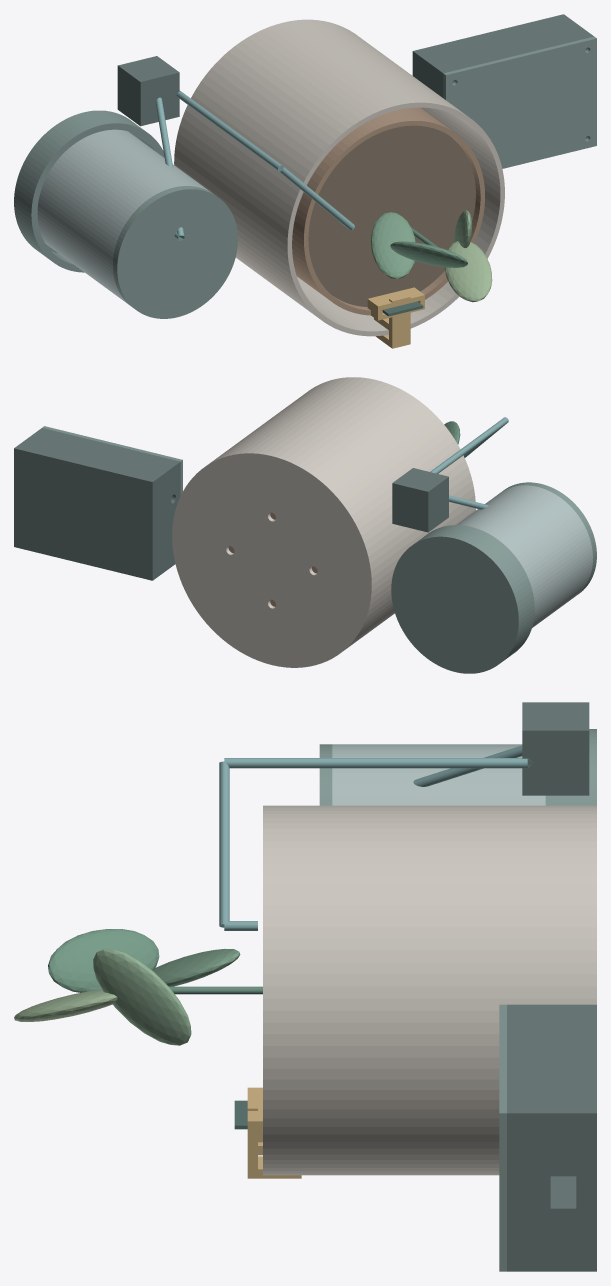
The model's file is assembly-concept.glb.
3 views of the same model, one above another, from view 1: azimuth 30°, elevation 25°; view 2: azimuth 150°, elevation 25°; view 3: azimuth 270°, elevation 25° (orthographic). The views are drawn at different scales.
Parts seen in each view (by area): view 1: sleeve-0, soil-5, electronics-lid-2, bought-tank-reference-8, tank-cap-reference-9, bought-liner-4, reservoir-cradle-7, electronics-base-1, pump-reference-11, leaf-reference-19, leaf-reference-22, sensor-clip-3 (+5 smaller); view 2: sleeve-0, electronics-base-1, reservoir-cradle-7, bought-tank-reference-8, pump-reference-11, tank-cap-reference-9, tube-reference-15, electronics-lid-2; view 3: sleeve-0, electronics-base-1, bought-tank-reference-8, pump-reference-11, leaf-reference-20, leaf-reference-21, tube-reference-15, electronics-lid-2, leaf-reference-19, leaf-reference-22, tube-reference-16, sensor-clip-3 (+3 smaller).
Part boxes in pixels (x1,y1,x2,y2): sleeve-0: [174, 19, 504, 336]; soil-5: [308, 125, 475, 306]; electronics-lid-2: [443, 36, 596, 168]; bought-tank-reference-8: [37, 129, 210, 304]; tank-cap-reference-9: [113, 186, 237, 318]; bought-liner-4: [292, 107, 484, 315]; reservoir-cradle-7: [14, 110, 164, 272]; electronics-base-1: [412, 14, 593, 139]; pump-reference-11: [117, 56, 179, 126]; leaf-reference-19: [371, 212, 415, 278]; leaf-reference-22: [444, 241, 492, 302]; sensor-clip-3: [367, 287, 424, 348]; sleeve-0: [172, 377, 475, 667]; electronics-base-1: [14, 428, 180, 580]; reservoir-cradle-7: [391, 525, 534, 673]; bought-tank-reference-8: [457, 485, 592, 627]; pump-reference-11: [392, 468, 448, 532]; tank-cap-reference-9: [502, 482, 596, 594]; tube-reference-15: [430, 417, 508, 473]; electronics-lid-2: [42, 426, 182, 495]; sleeve-0: [263, 805, 596, 1175]; electronics-base-1: [507, 1004, 596, 1271]; bought-tank-reference-8: [332, 744, 545, 805]; pump-reference-11: [522, 702, 589, 795]; leaf-reference-20: [93, 949, 191, 1045]; leaf-reference-21: [48, 929, 159, 992]; tube-reference-15: [224, 758, 527, 768]; electronics-lid-2: [499, 1004, 506, 1271]; leaf-reference-19: [153, 949, 240, 986]; leaf-reference-22: [14, 989, 117, 1021]; tube-reference-16: [219, 761, 229, 927]; sensor-clip-3: [247, 1087, 301, 1178].
Size of the model in its own units: 0.364 by 0.15 by 0.2269.
